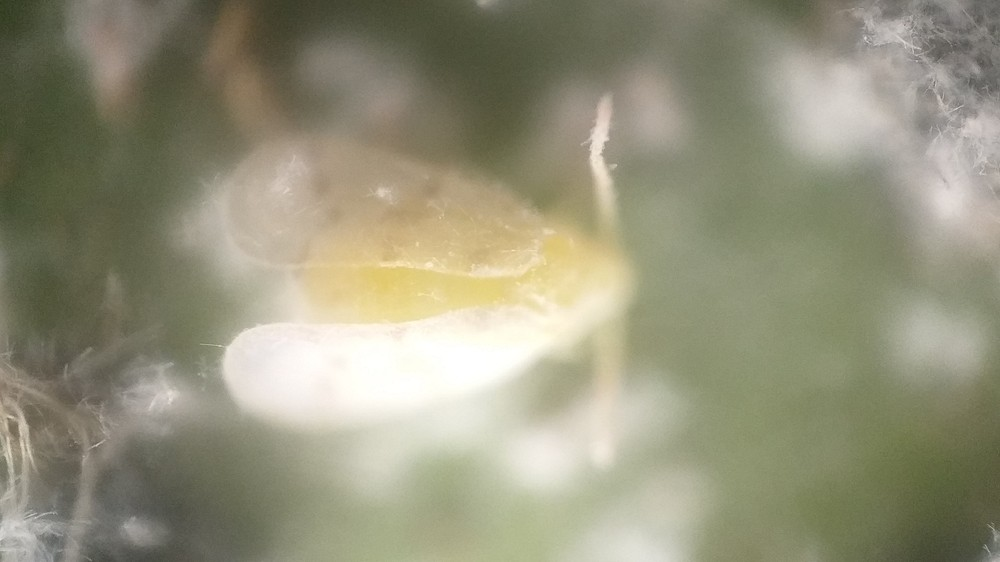Mosca Blanca: (203, 89, 665, 478)
